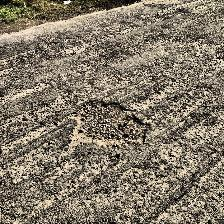pothole: (67, 99, 151, 147)
